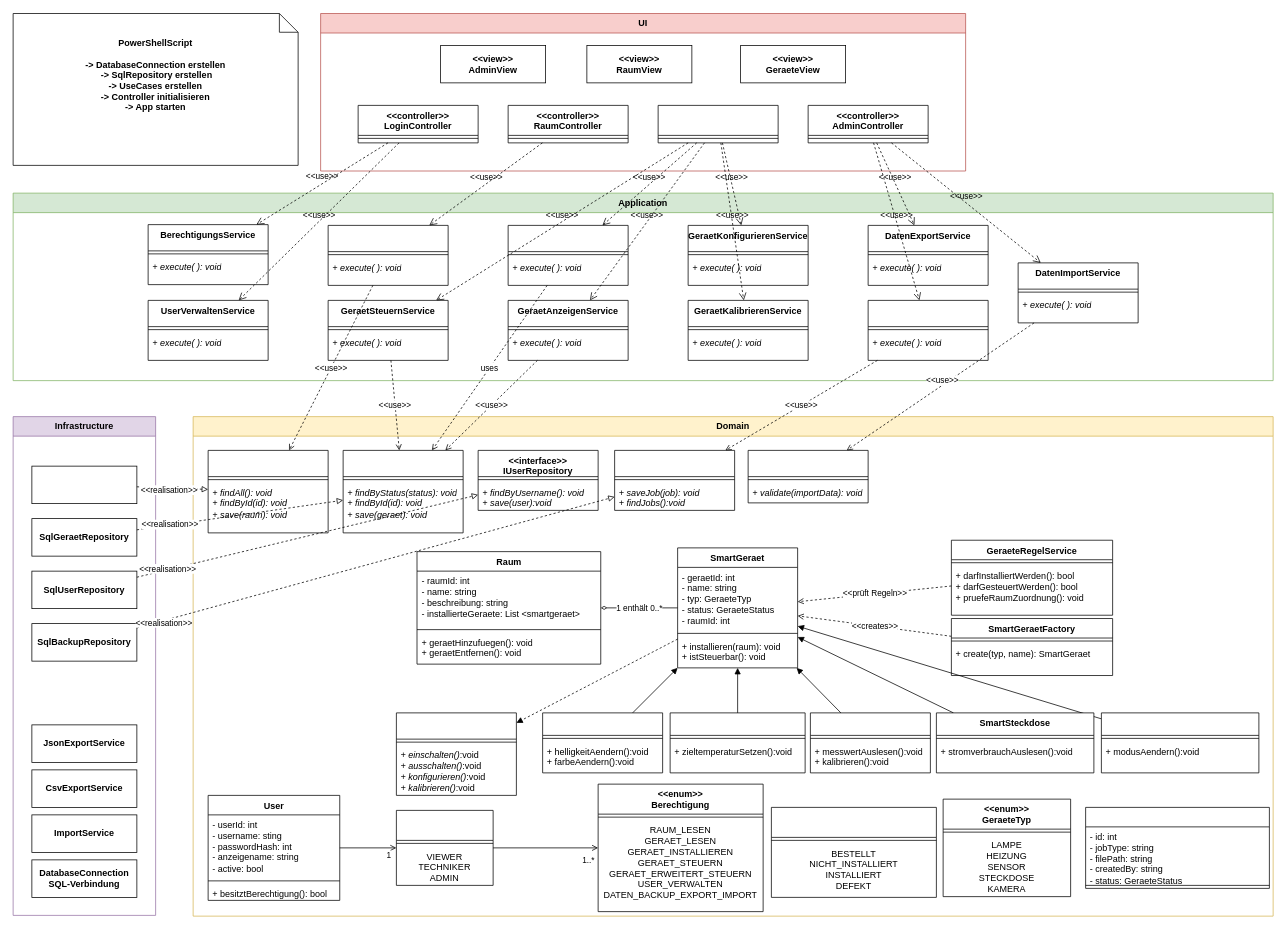
This 1286x929 diagram has some shape labels left out. Here are the shapes that lost their labels. From the top down, the box of each, then its label:
(657, 105, 778, 143): <<controller>> GeraeteController
(327, 225, 448, 285): RaumAnzeigenService
(507, 225, 628, 285): GeraetInstallierenService
(867, 300, 988, 360): DatenBackupService
(31, 465, 137, 504): SqlRaumRepository
(207, 450, 328, 533): <<interface>> IRaumRepository
(342, 450, 463, 533): <<interface>> IGeraetRepository
(614, 450, 735, 510): <<interface>> IIBackupRepository
(747, 450, 868, 503): <<interface>> IImportValidator
(396, 712, 516, 795): <<interface>> ISmartGeraet
(542, 712, 663, 773): SmartLampe
(669, 712, 805, 773): SmartHeizung
(810, 712, 930, 773): SmartSensor
(1101, 712, 1259, 773): SmartKamera
(396, 810, 493, 885): <<enum>> Rolle
(771, 807, 936, 897): <<enum>> GeraeteStatus
(1085, 807, 1269, 888): BackupAuftrag
